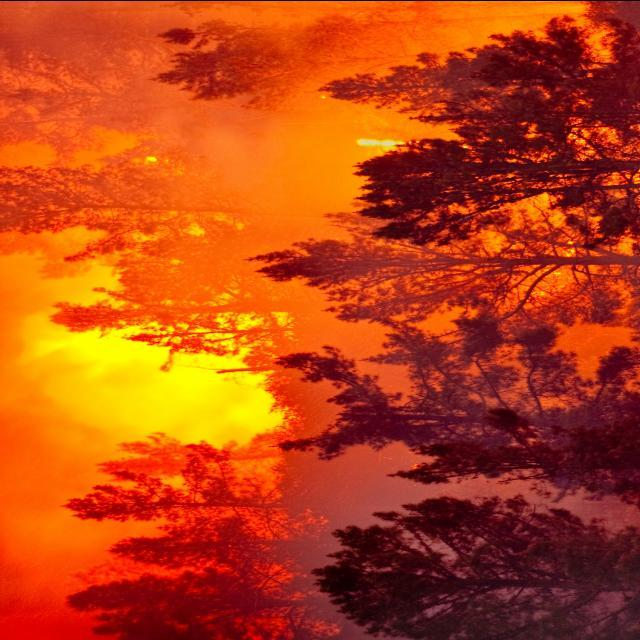Fire: (2, 240, 295, 449), (334, 113, 616, 294)
